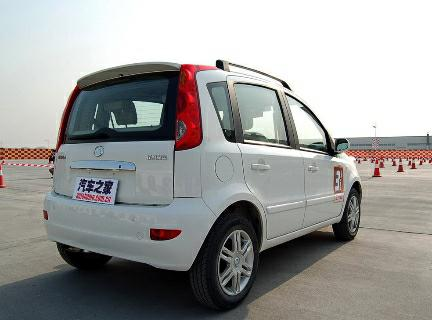长城-精灵: (38, 56, 373, 317)
